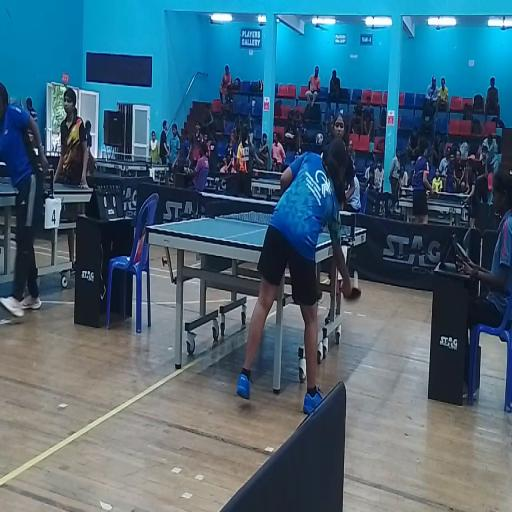ball: (354, 270, 358, 286)
